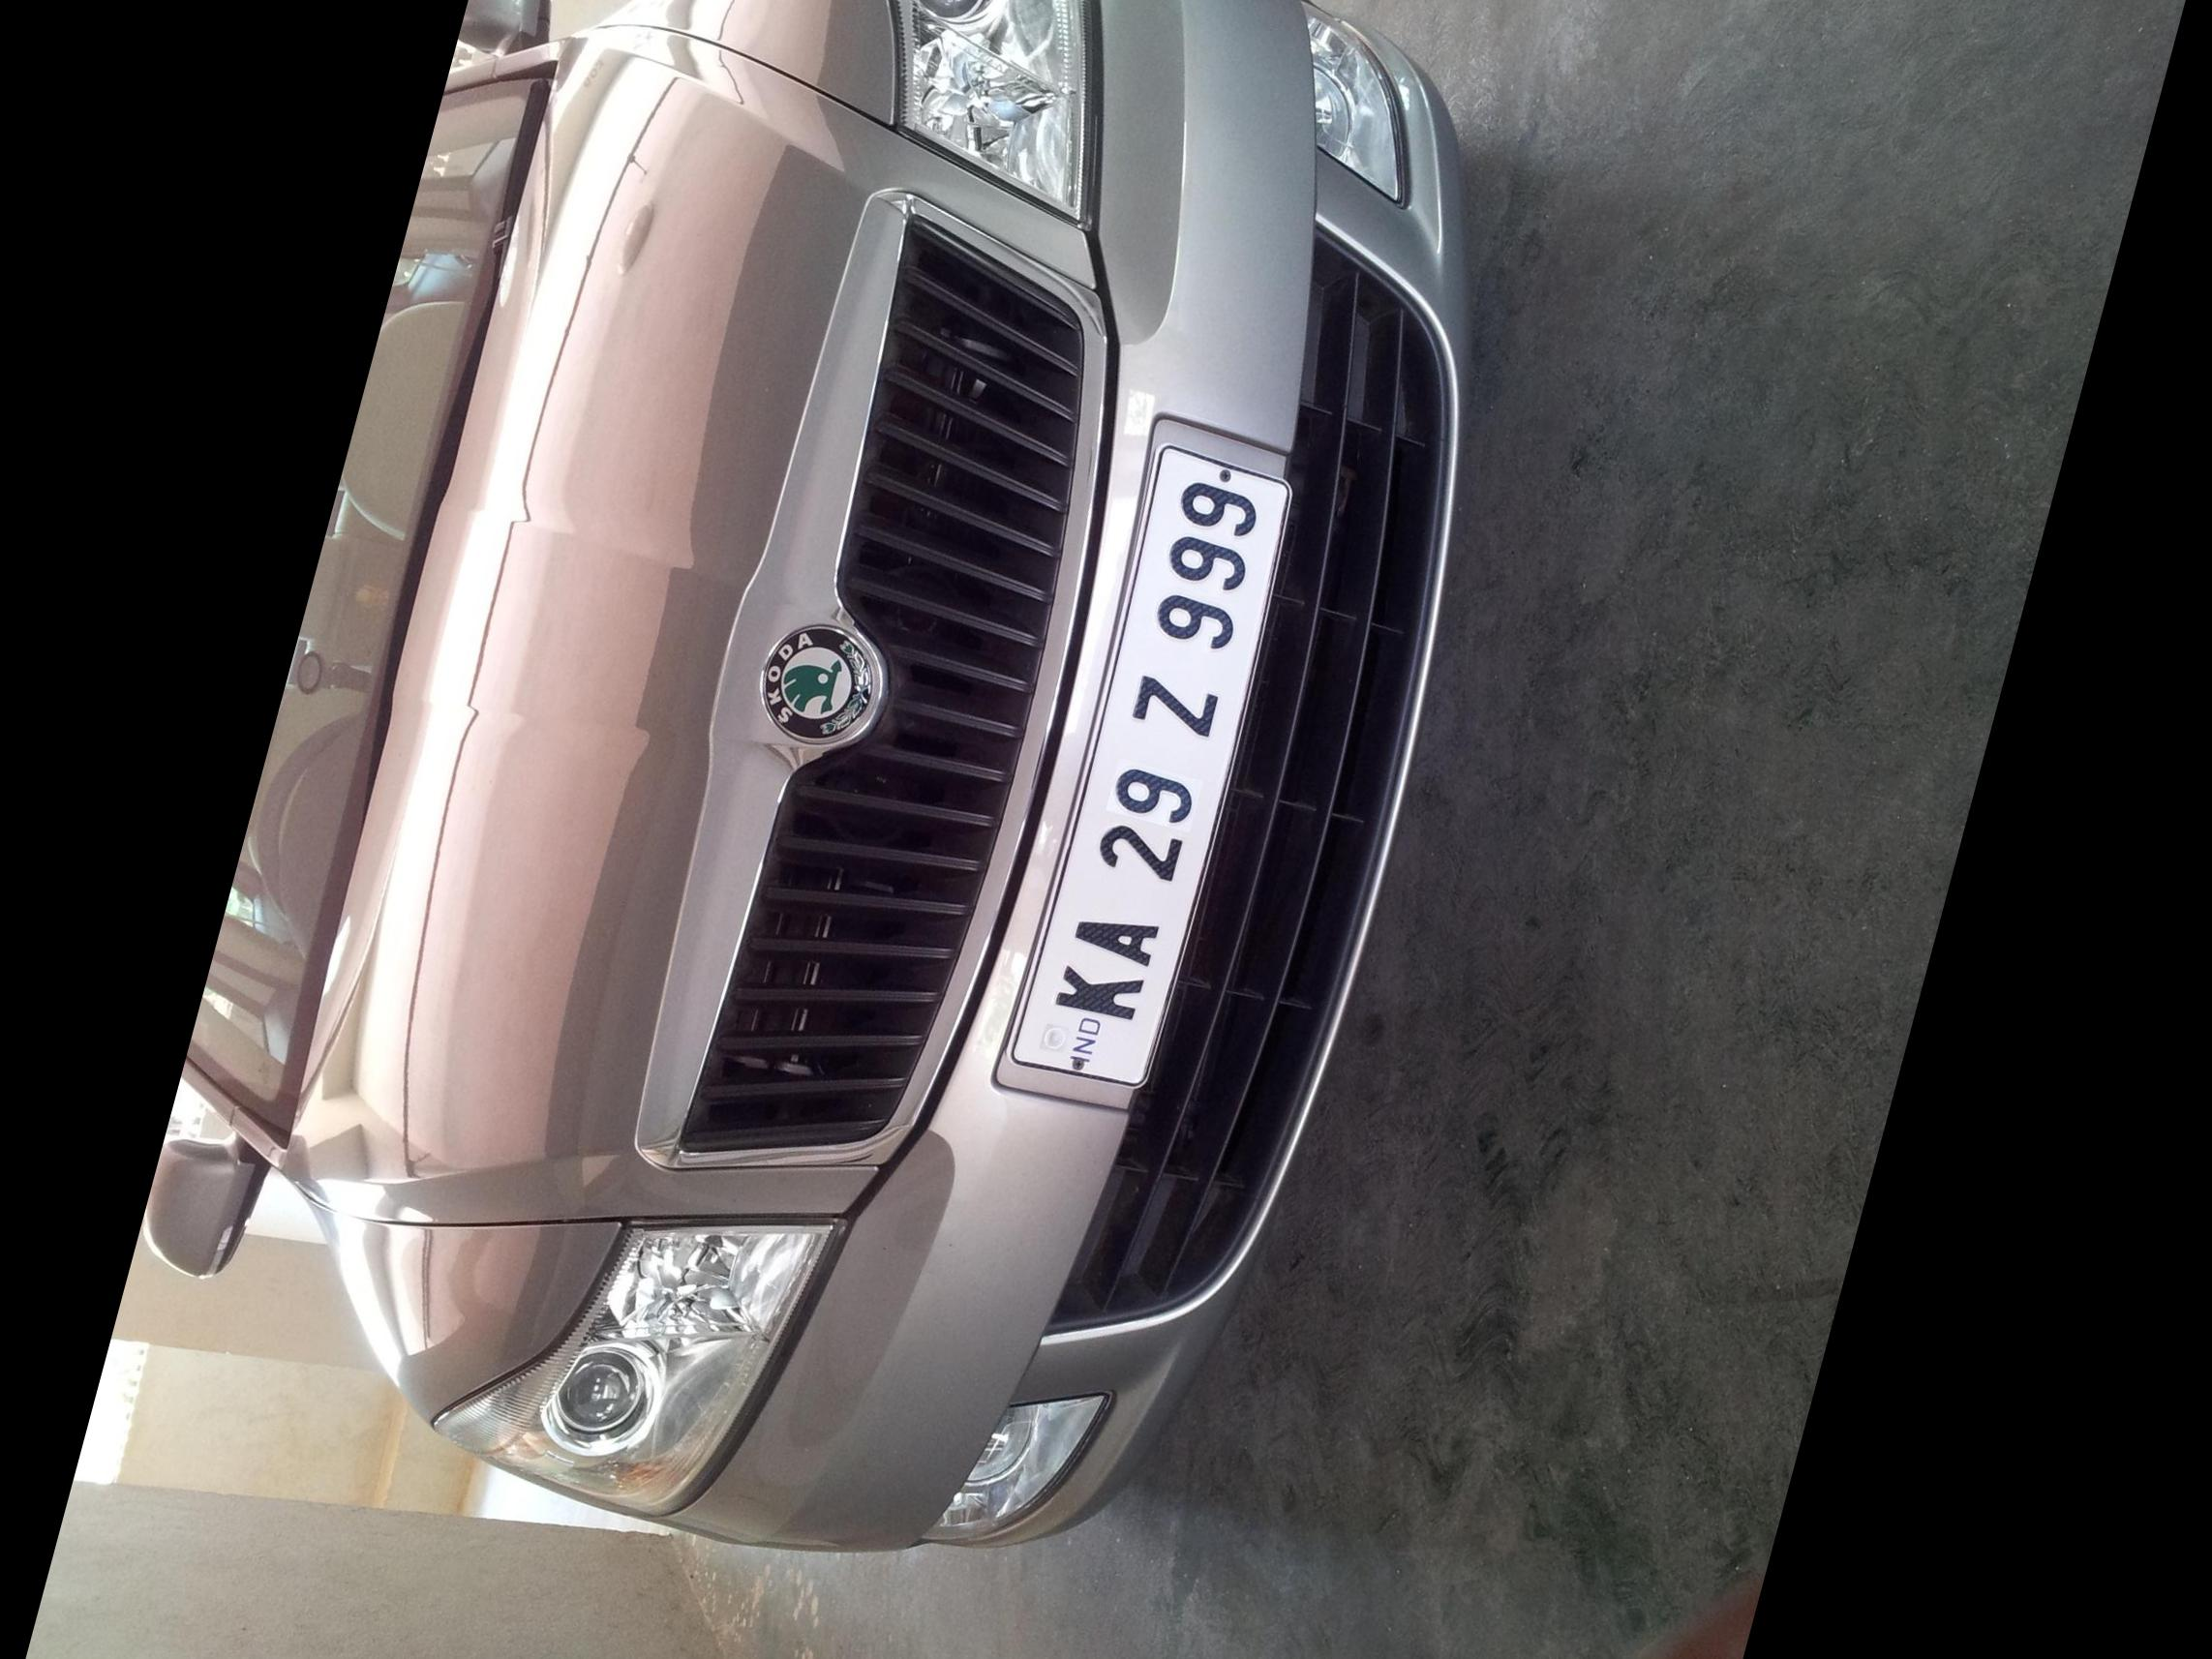plate: (982, 395, 1333, 1137)
